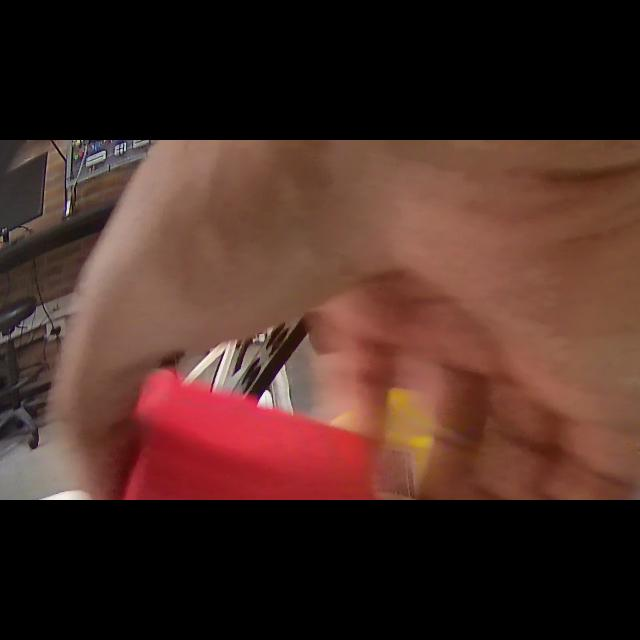redBox: (61, 364, 412, 500)
